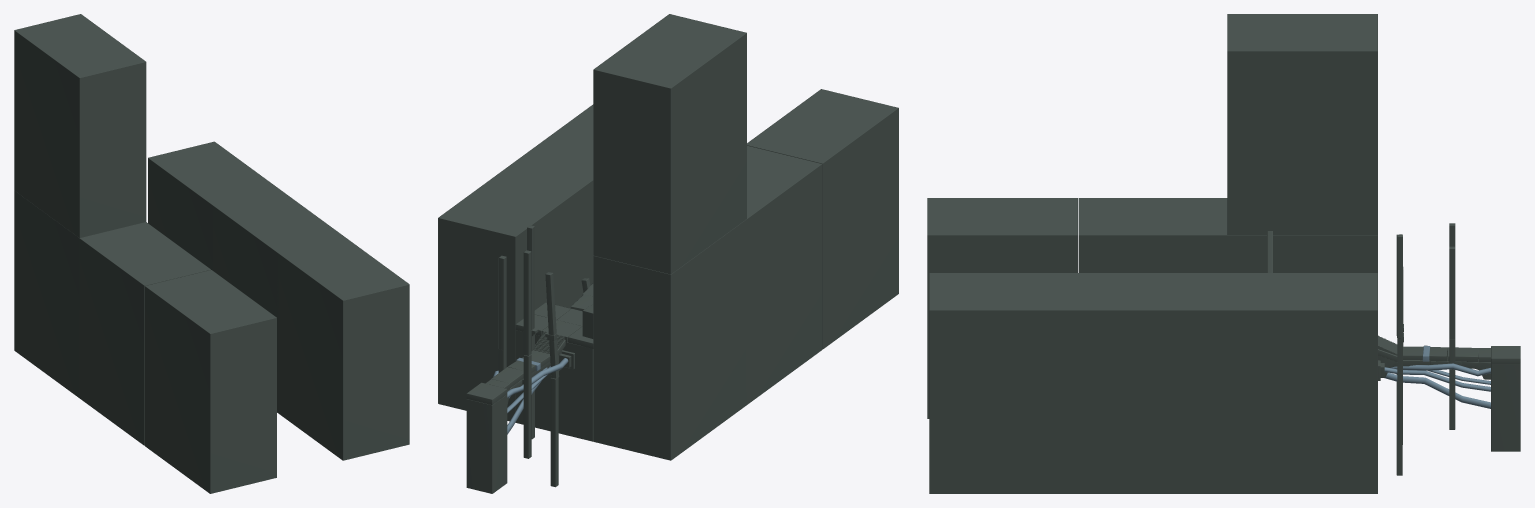
The model's file is Abstract_level_1.fbx.
3 renders of one model, left to right at view 1: azimuth 30°, elevation 25°; view 2: azimuth 150°, elevation 25°; view 3: azimuth 270°, elevation 25°, orthographic. The views are drawn at different scales.
Visible parts, largest first — view 1: polySurface65; view 2: polySurface65; view 3: polySurface65.
Boxes of the visible parts, <box> form: polySurface65: <box>14,14,409,493</box>; polySurface65: <box>438,14,898,493</box>; polySurface65: <box>927,14,1520,493</box>.
Bounding box in the file's own units: 44.62 × 75.87 × 99.6.
